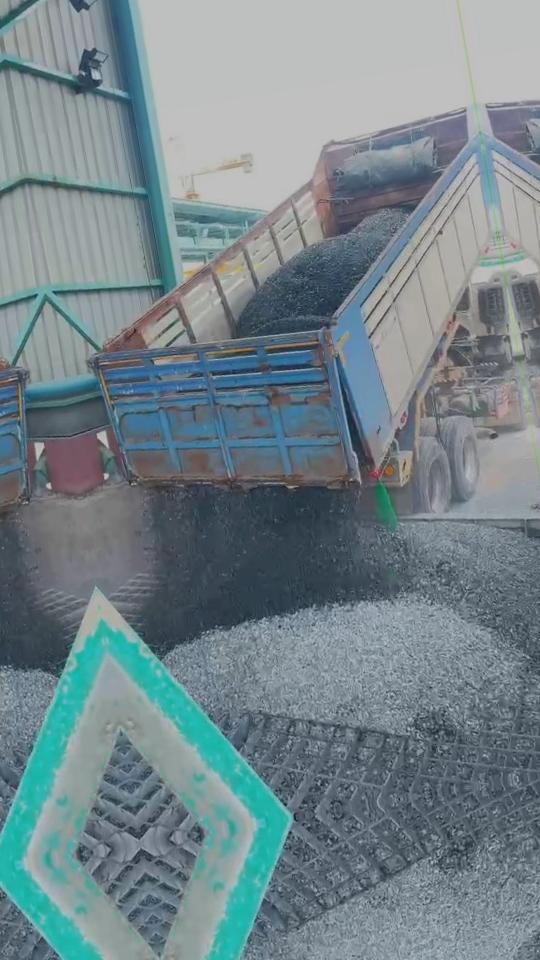gravel: (166, 522, 540, 735), (142, 487, 391, 652), (236, 208, 407, 336)
